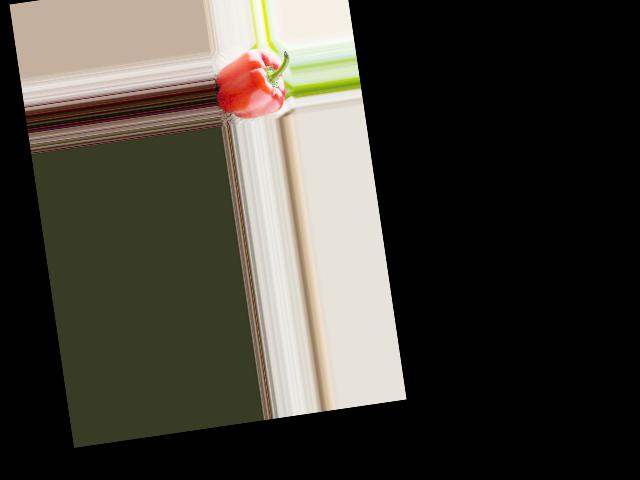bell_pepper: (209, 42, 295, 121)
